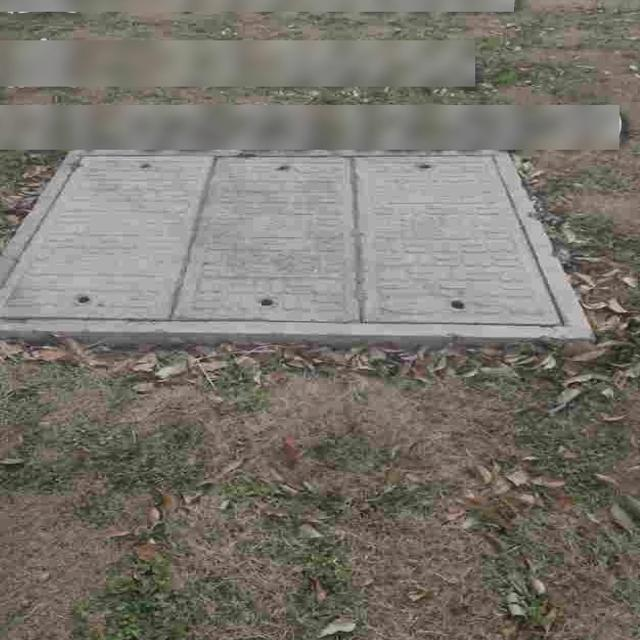good: (0, 147, 597, 344)
